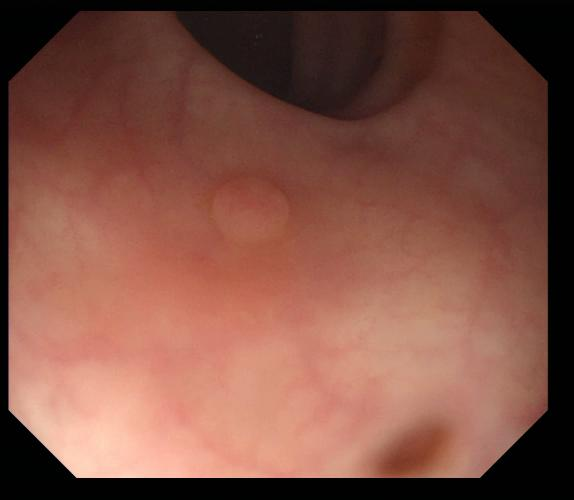polyp: (208, 174, 295, 249)
